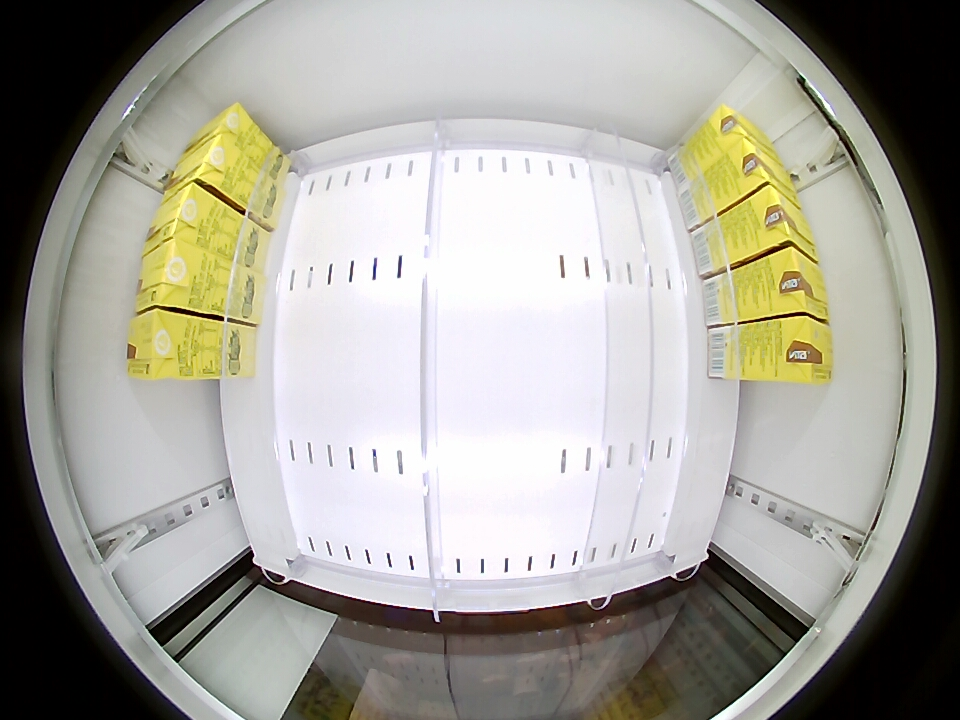weitaningmeng: (747, 184, 818, 262), (159, 134, 241, 200), (135, 237, 204, 314), (726, 136, 802, 205), (143, 183, 213, 254), (764, 246, 829, 321), (127, 309, 191, 379), (706, 103, 783, 160), (771, 315, 833, 384), (178, 102, 253, 158)
